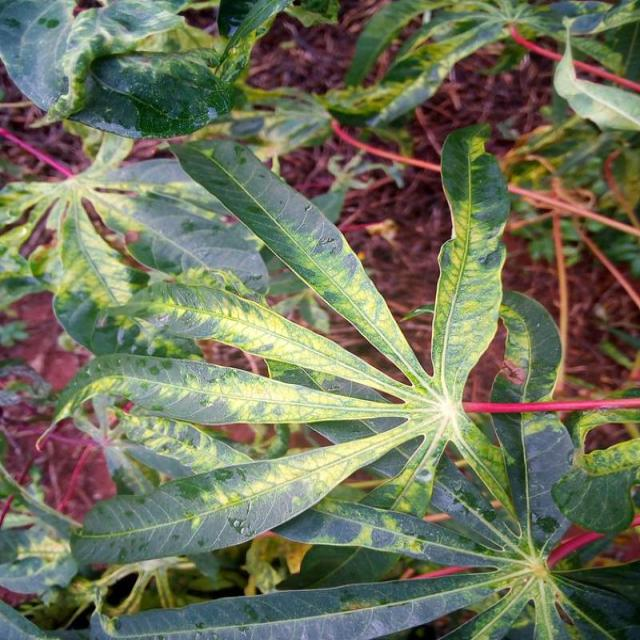cassava leaf: (50, 120, 638, 637)
